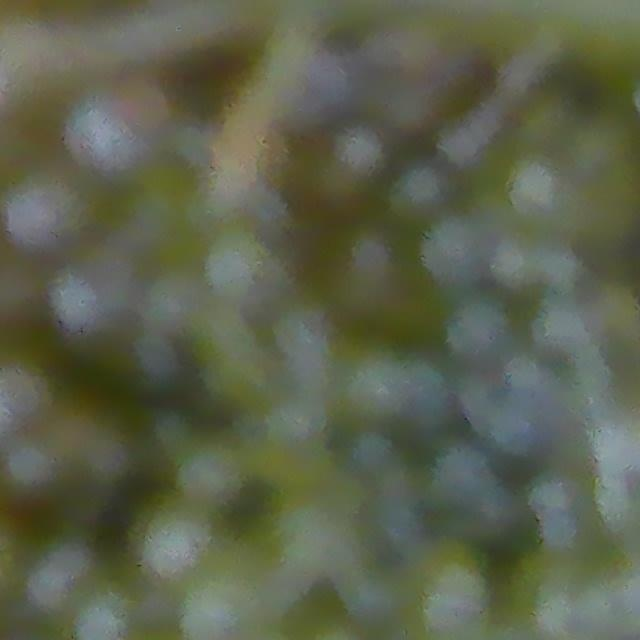SeaGrape: (327, 333, 444, 438), (0, 158, 96, 260), (195, 220, 294, 315), (406, 542, 496, 637), (134, 498, 219, 581), (438, 287, 519, 372), (416, 209, 497, 292), (60, 411, 142, 491), (171, 431, 251, 511), (381, 155, 458, 232), (23, 534, 97, 611), (64, 585, 136, 640)
